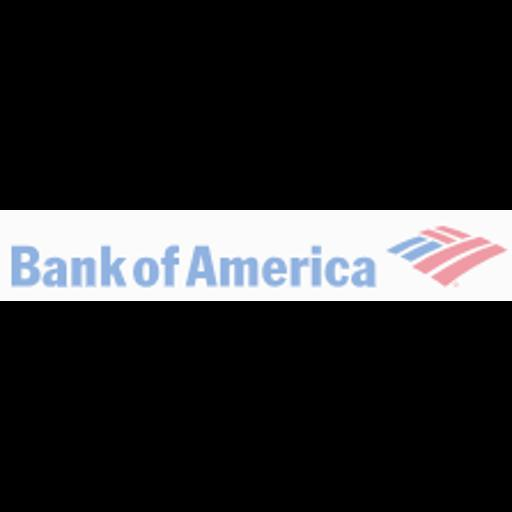Bank of America: (0, 210, 512, 301)
